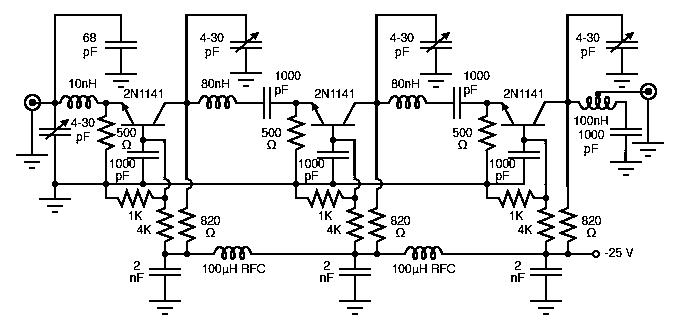C: (101, 28, 148, 65), (225, 27, 270, 56), (417, 32, 456, 63), (141, 260, 186, 284), (40, 114, 75, 144), (256, 78, 277, 125)
L: (382, 91, 436, 118), (193, 89, 245, 115), (210, 238, 260, 263), (400, 243, 450, 262)
Q: (492, 90, 555, 134), (112, 90, 177, 132), (305, 90, 363, 135)
R: (172, 197, 205, 248), (110, 185, 162, 216), (552, 199, 584, 246), (304, 188, 351, 214), (150, 201, 177, 244), (368, 203, 395, 244), (284, 109, 309, 153), (532, 203, 557, 246)
